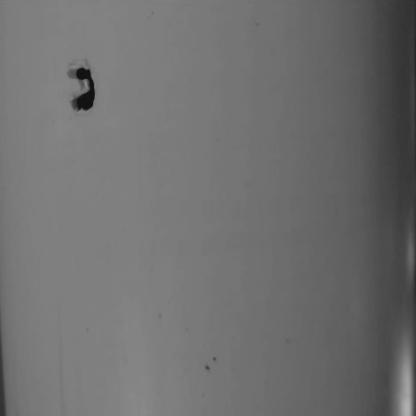kongdong: (52, 54, 104, 114)
